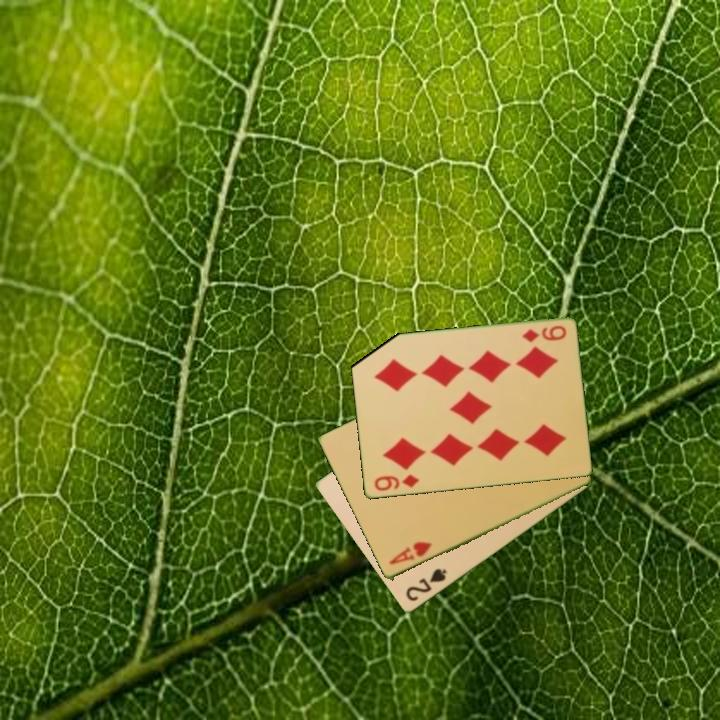2s: (402, 565, 450, 605)
9d: (370, 471, 422, 494), (518, 322, 569, 345)
Ah: (386, 538, 435, 568)
